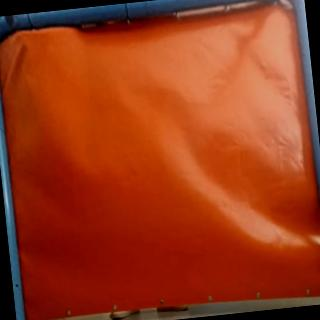Hit-hRxx: (17, 38, 31, 48)
